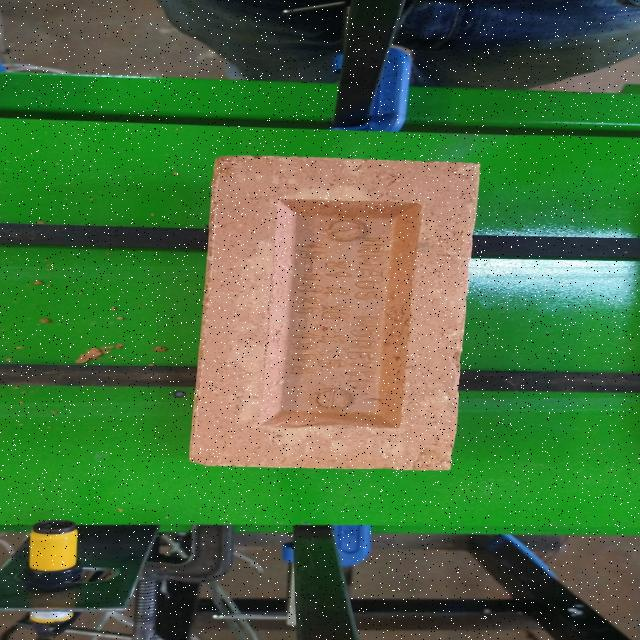bricks: (192, 157, 484, 472)
